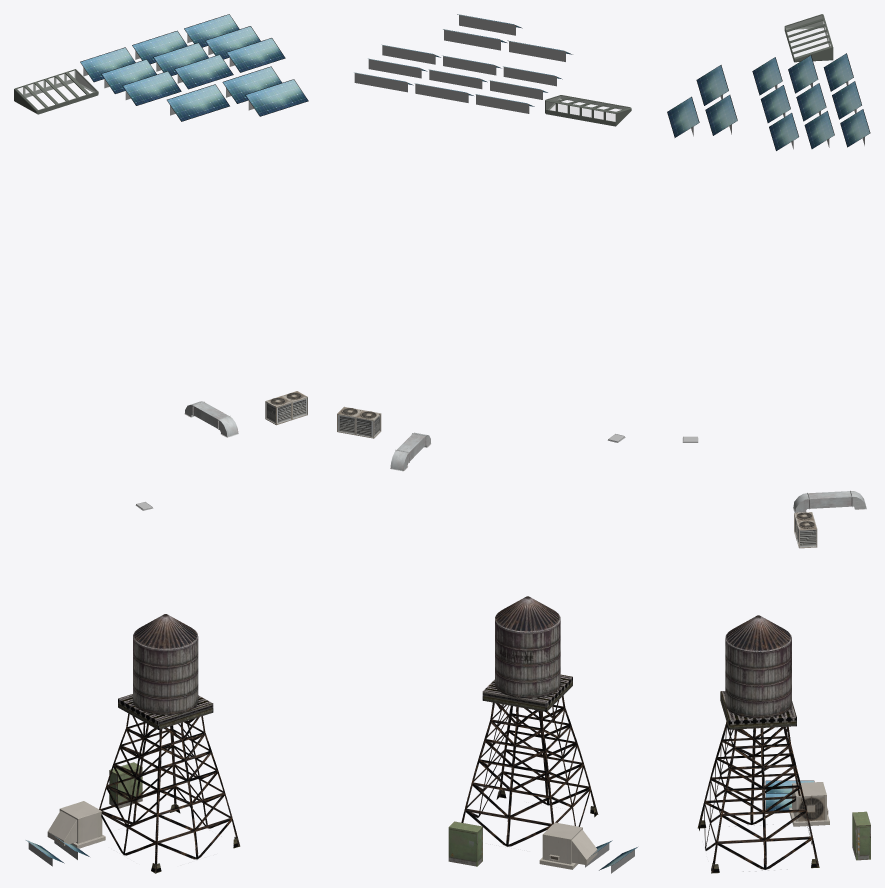
File: nycity_23.gltf
3 renders of one model, left to right at view 1: azimuth 30°, elevation 25°; view 2: azimuth 150°, elevation 25°; view 3: azimuth 270°, elevation 25°, orthographic.
Visible parts, largest first — view 1: nycity_23; view 2: nycity_23; view 3: nycity_23.
Boxes of the visible parts, bbox=[...] form: nycity_23: bbox=[14, 14, 308, 873]; nycity_23: bbox=[337, 14, 637, 873]; nycity_23: bbox=[667, 14, 870, 873].
Bounding box in the file's own units: 11.87 × 30.56 × 7.28.
Materials: 12 (7 with a texture image).
